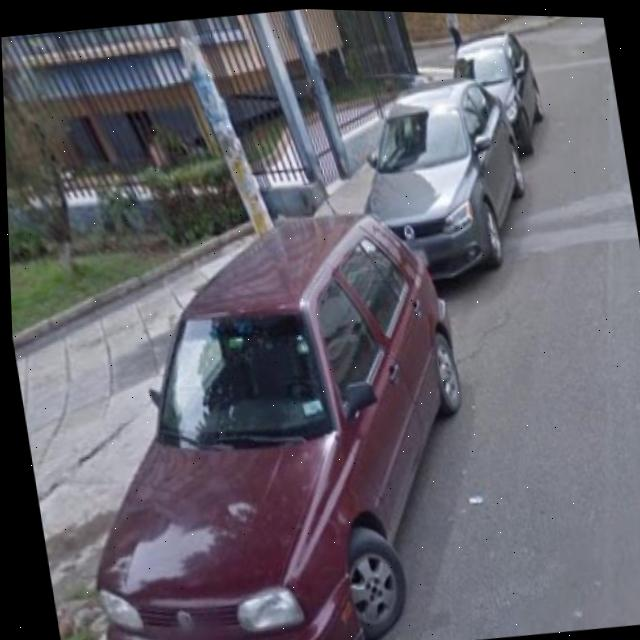vehicle: (43, 198, 506, 640), (341, 39, 507, 237)
